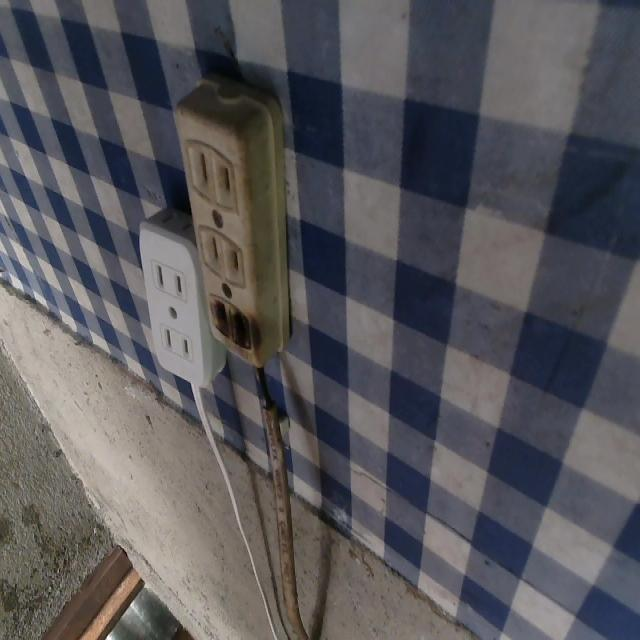-: (202, 287, 264, 361)
